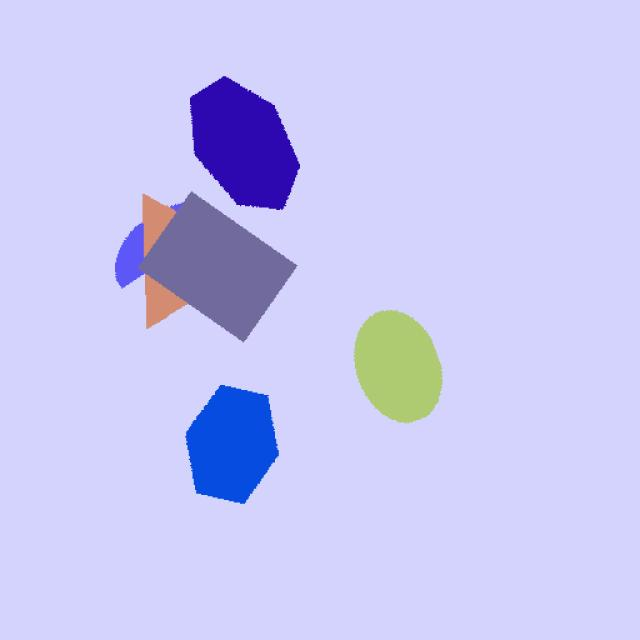Circle: (344, 298, 472, 460)
Heptagon: (184, 65, 316, 218)
Hexagon: (172, 368, 294, 515)
Rectangle: (152, 187, 298, 332)
Semicircle: (104, 189, 182, 293)
Triangle: (125, 182, 219, 332)
